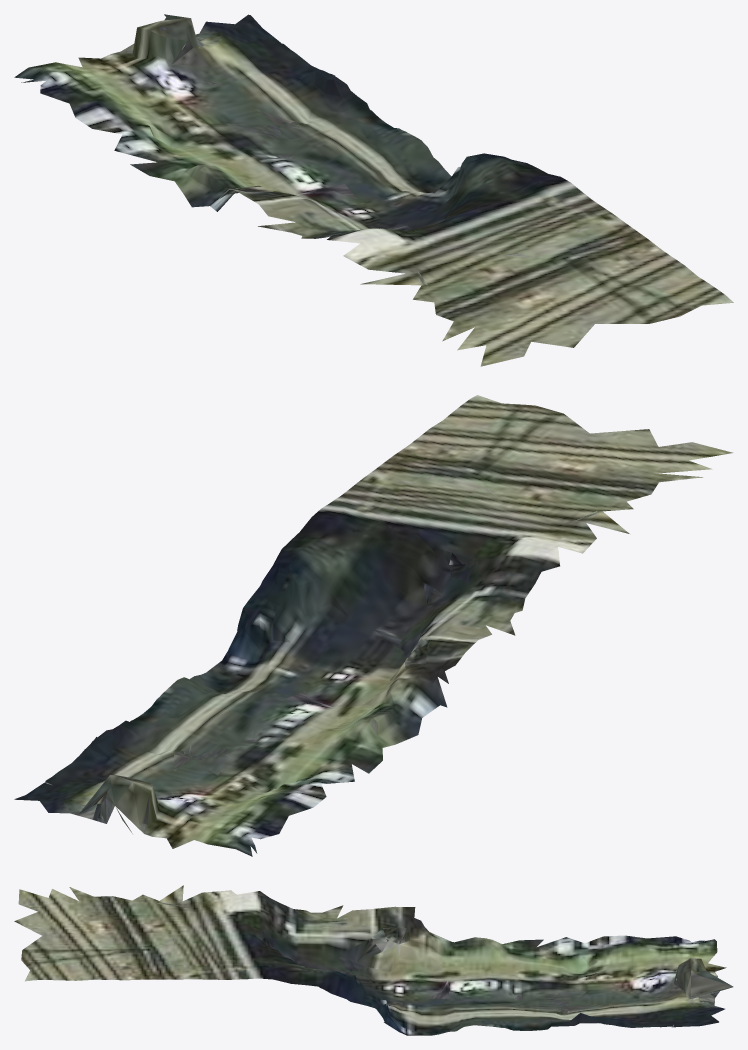
Rendered from Tile_002_003_L14_443.glb.
3 views of the same model, one above another, from view 1: azimuth 30°, elevation 25°; view 2: azimuth 150°, elevation 25°; view 3: azimuth 270°, elevation 25° (orthographic). The views are drawn at different scales.
Visible parts, largest first — view 1: rtc; view 2: rtc; view 3: rtc.
Boxes of the visible parts, x1,y1,x2,y2 form: rtc: (14, 14, 733, 366); rtc: (14, 395, 733, 856); rtc: (14, 885, 733, 1035).
Size of the model in its own units: 21.9 by 7.1 by 70.95.
Materials: 1 (1 with a texture image).
